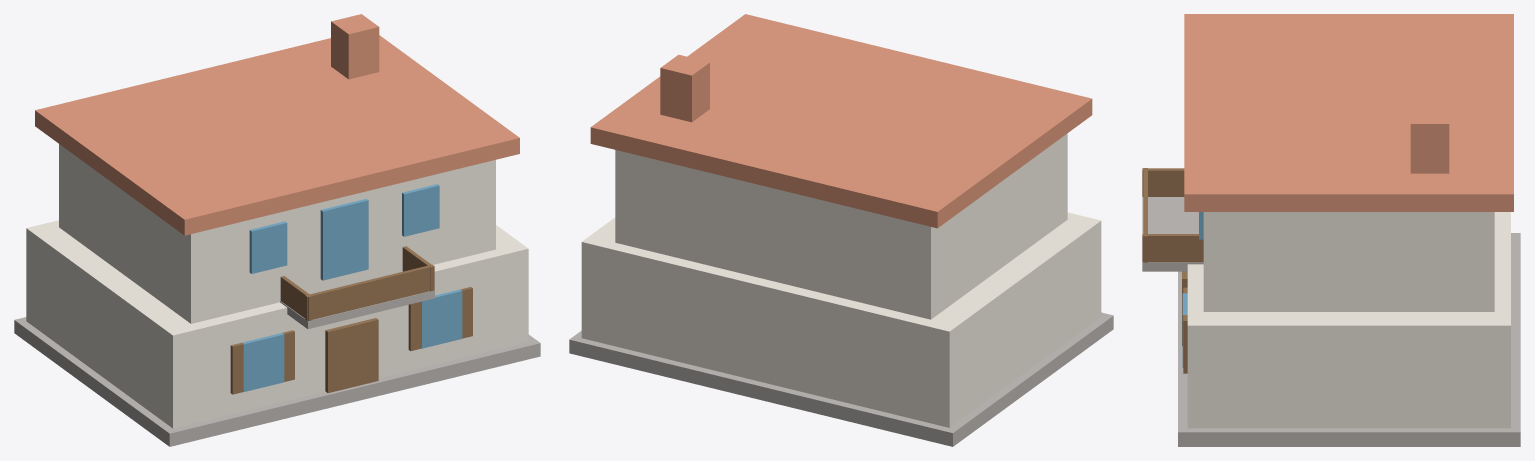
Rendered from building_villa_terracotta.glb.
3 views of the same model, side by side, from view 1: azimuth 30°, elevation 25°; view 2: azimuth 150°, elevation 25°; view 3: azimuth 270°, elevation 25° (orthographic). The views are drawn at different scales.
Visible parts, largest first — view 1: v_roof_base, v_ground, v_floor2, v_plinth, v_balc_door, v_door, v_balc_rail_f, v_chimney, v_win_g1, v_win_g2, v_win_u1, v_win_u2 (+7 smaller); view 2: v_roof_base, v_ground, v_floor2, v_plinth, v_chimney; view 3: v_roof_base, v_ground, v_floor2, v_plinth, v_chimney, v_balc_fl, v_balc_rail_r, v_balc_rail_l, v_balc_rail_f.
Boxes of the visible parts, x1,y1,x2,y2 form: v_roof_base: (35, 35, 519, 235); v_ground: (26, 220, 528, 428); v_floor2: (59, 144, 495, 323); v_plinth: (14, 317, 540, 446); v_balc_door: (320, 199, 368, 280); v_door: (325, 318, 378, 393); v_balc_rail_f: (305, 264, 434, 320); v_chimney: (331, 14, 379, 79); v_win_g1: (242, 333, 284, 391); v_win_g2: (421, 289, 462, 348); v_win_u1: (249, 221, 287, 273); v_win_u2: (402, 184, 439, 236); v_roof_base: (590, 14, 1092, 228); v_ground: (581, 212, 1101, 427); v_floor2: (615, 133, 1067, 319); v_plinth: (569, 312, 1113, 446); v_chimney: (660, 54, 709, 122); v_roof_base: (1184, 14, 1513, 211); v_ground: (1187, 212, 1510, 428); v_floor2: (1203, 212, 1494, 311); v_plinth: (1178, 233, 1520, 446); v_chimney: (1410, 107, 1449, 173); v_balc_fl: (1142, 197, 1203, 271); v_balc_rail_r: (1142, 234, 1203, 262); v_balc_rail_l: (1142, 168, 1184, 196); v_balc_rail_f: (1143, 168, 1147, 262).
Bounding box in the file's own units: 14.6 × 10 × 11.7.
